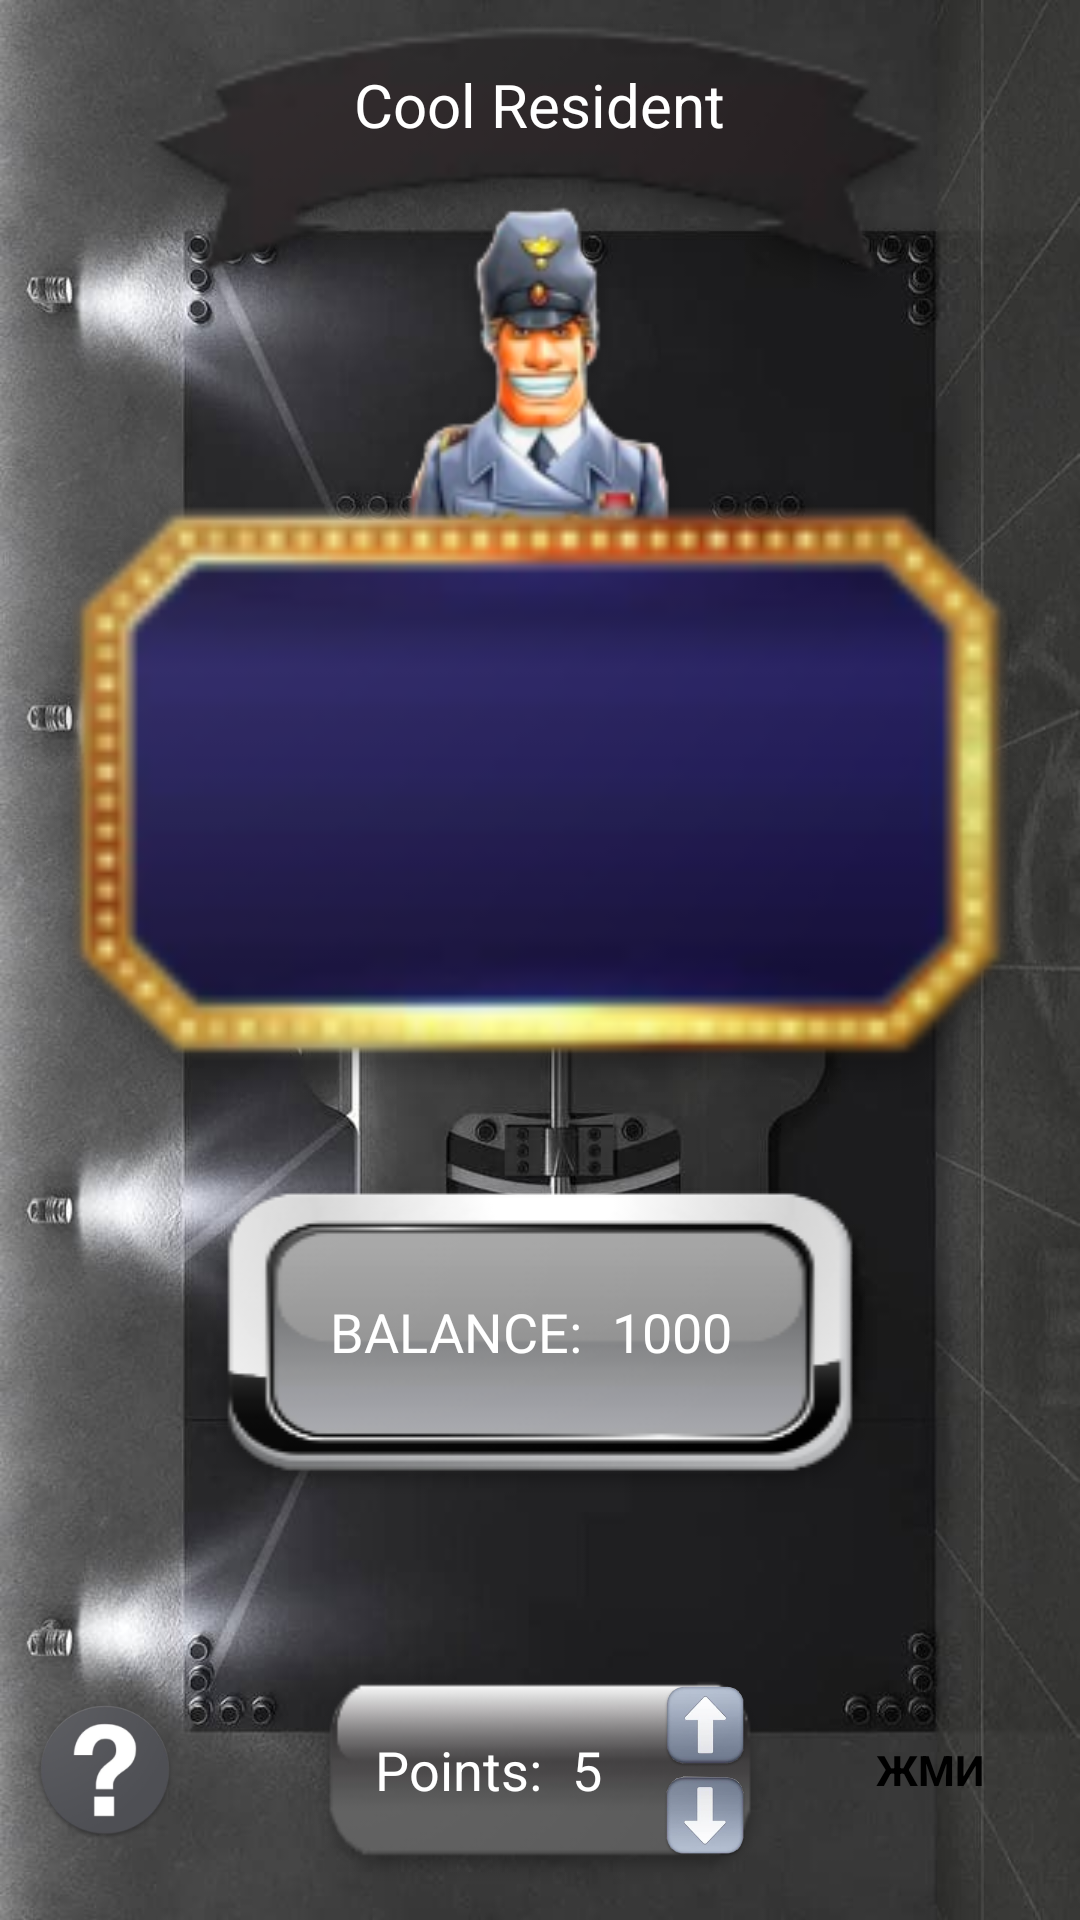

Point at icon controls on the screen. Image size 1080*1920, points as [x,y].
questions: [105,1770]
